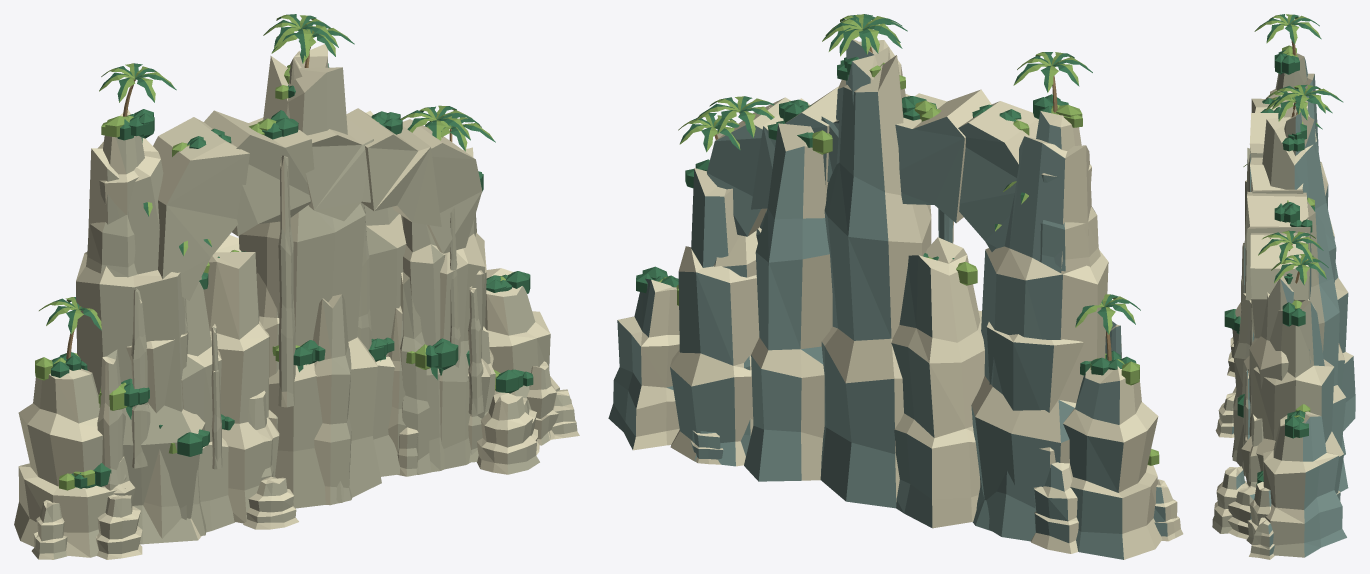
File: landmarks.glb
The picture shows the model from 3 angles, left to right: view 1: azimuth 30°, elevation 25°; view 2: azimuth 150°, elevation 25°; view 3: azimuth 270°, elevation 25°; orthographic projection. The views are drawn at different scales.
Visible parts, largest first — view 1: Landmark_Ridge_Geometry, Landmark_Arch_Geometry, Landmark_Stacks_Geometry; view 2: Landmark_Ridge_Geometry, Landmark_Arch_Geometry, Landmark_Stacks_Geometry; view 3: Landmark_Ridge_Geometry, Landmark_Arch_Geometry, Landmark_Stacks_Geometry.
Part boxes in pixels (bbox=[...]): Landmark_Ridge_Geometry: bbox=[14, 21, 579, 559]; Landmark_Arch_Geometry: bbox=[76, 63, 539, 559]; Landmark_Stacks_Geometry: bbox=[169, 14, 460, 532]; Landmark_Ridge_Geometry: bbox=[608, 14, 1183, 559]; Landmark_Arch_Geometry: bbox=[690, 52, 1121, 553]; Landmark_Stacks_Geometry: bbox=[756, 14, 1001, 242]; Landmark_Ridge_Geometry: bbox=[1212, 89, 1355, 559]; Landmark_Arch_Geometry: bbox=[1227, 14, 1340, 539]; Landmark_Stacks_Geometry: bbox=[1224, 84, 1343, 420].
Size of the model in its own units: 30.01 by 23.73 by 8.37.
